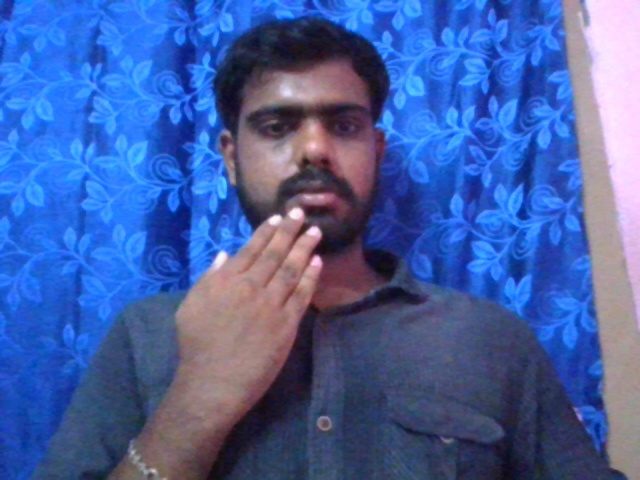Thanks: (166, 203, 325, 428)
